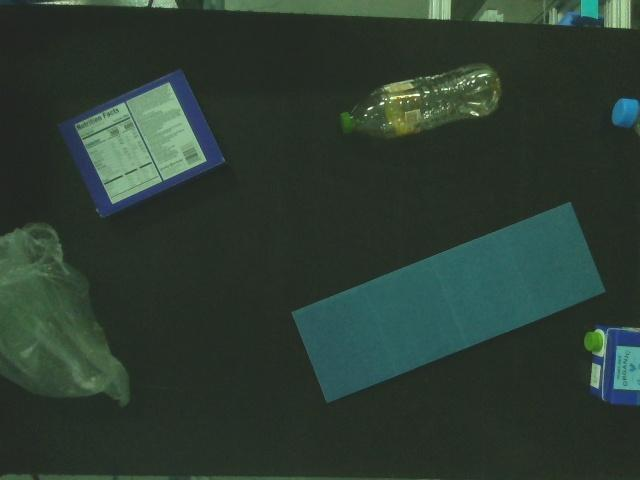cardboard: (290, 198, 609, 404), (62, 63, 236, 227), (584, 319, 640, 416)
plastic: (0, 222, 145, 414), (337, 62, 507, 151), (605, 93, 639, 136)
